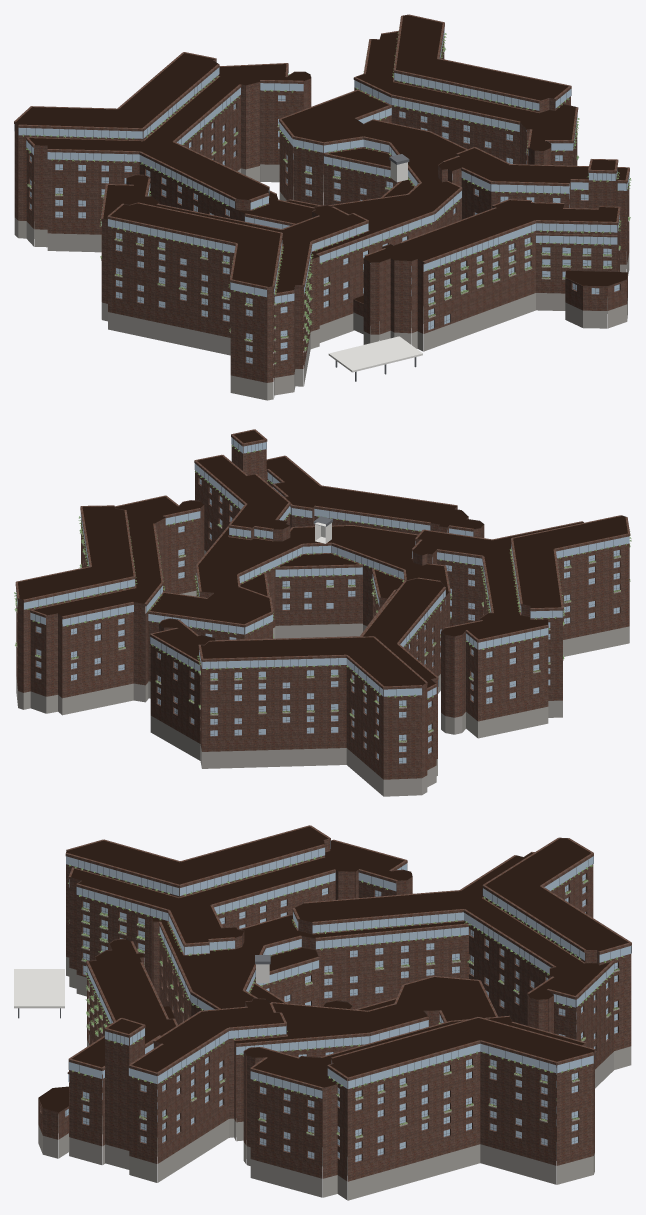
The model's file is hotel_fachadas.glb.
3 renders of one model, top to bottom at view 1: azimuth 30°, elevation 25°; view 2: azimuth 150°, elevation 25°; view 3: azimuth 270°, elevation 25°, orthographic. The views are drawn at different scales.
Parts seen in each view (by area): view 1: Hotel_Fachadas_3D; view 2: Hotel_Fachadas_3D; view 3: Hotel_Fachadas_3D.
Boxes of the visible parts, bbox=[...] form: Hotel_Fachadas_3D: bbox=[14, 14, 631, 400]; Hotel_Fachadas_3D: bbox=[14, 429, 631, 796]; Hotel_Fachadas_3D: bbox=[14, 825, 631, 1200].
Size of the model in its own units: 129 by 32.61 by 133.
10 materials, 1 textured.
